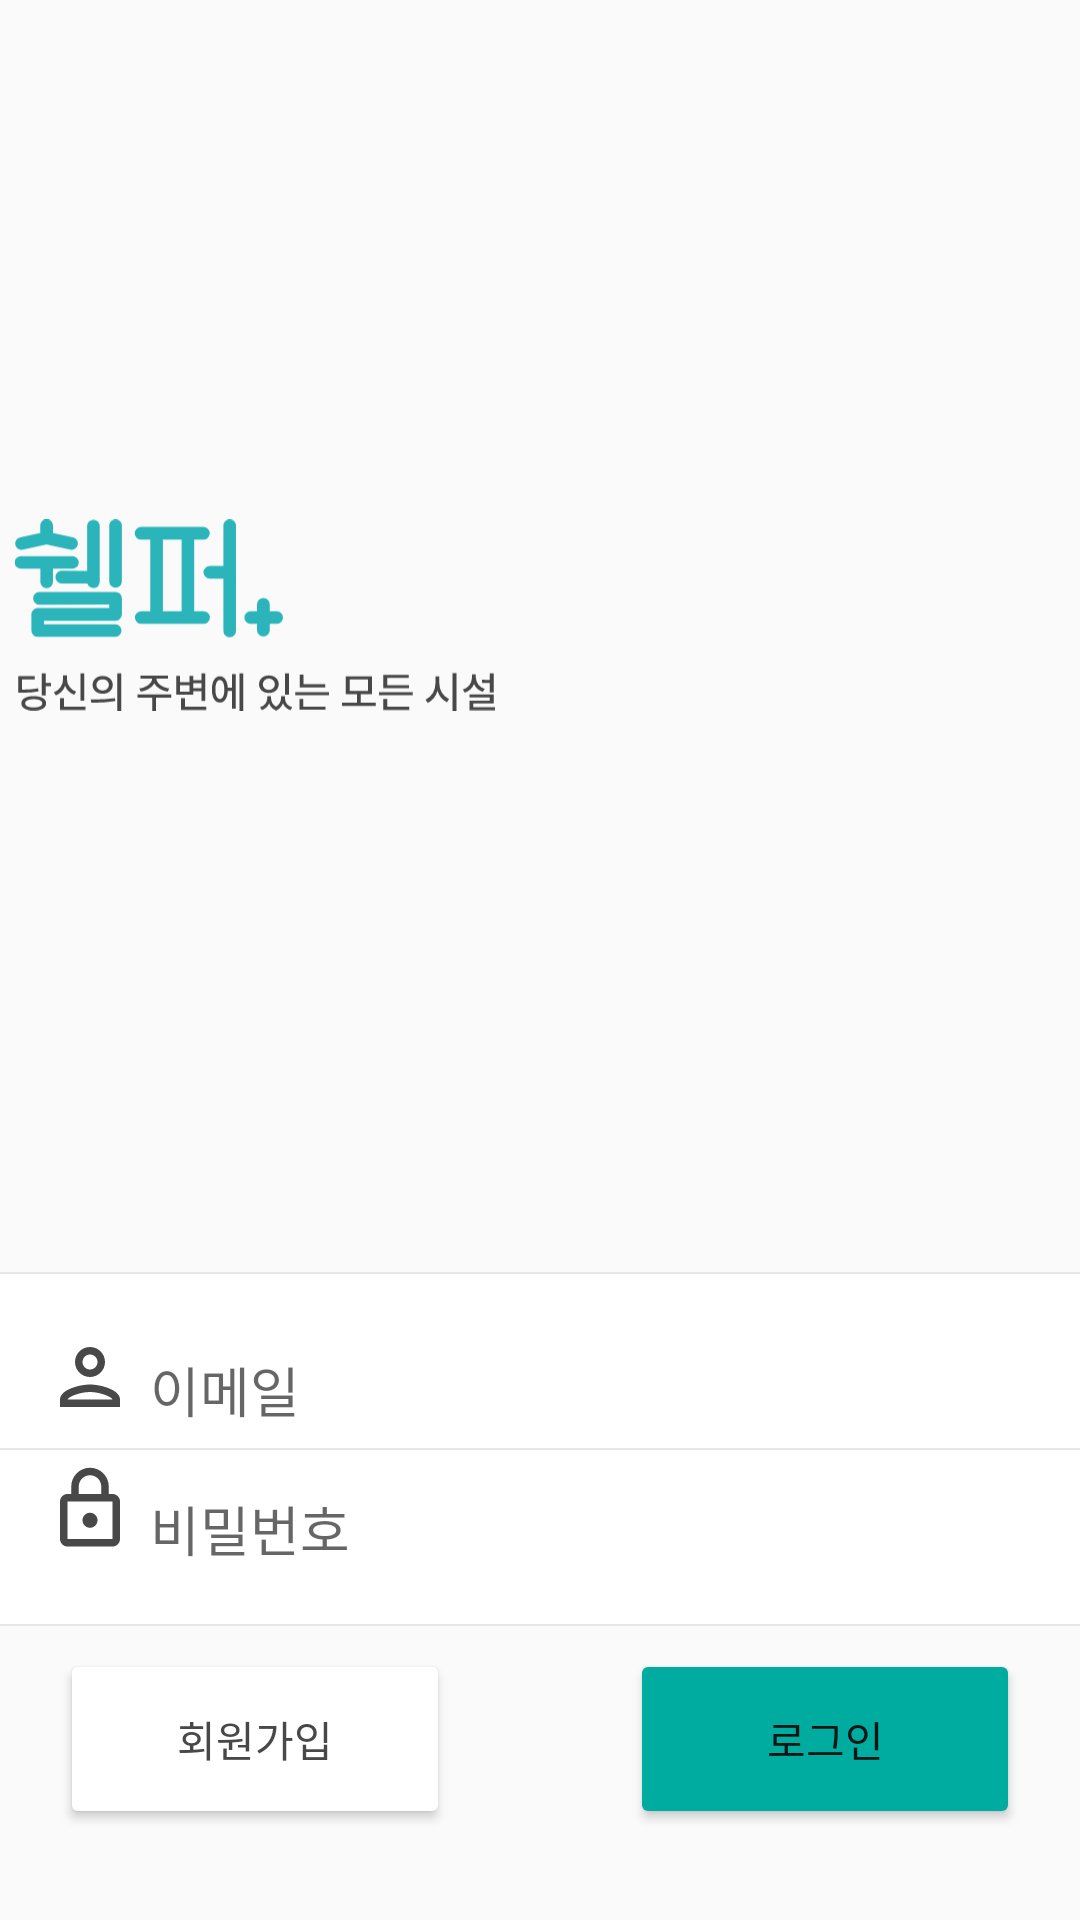

Screen size 1080w x 1920h. Icon name, then its box in pixels as [x1,y1,x2,y2]:
lock: [60,1467,120,1547]
person: [60,1347,120,1407]
